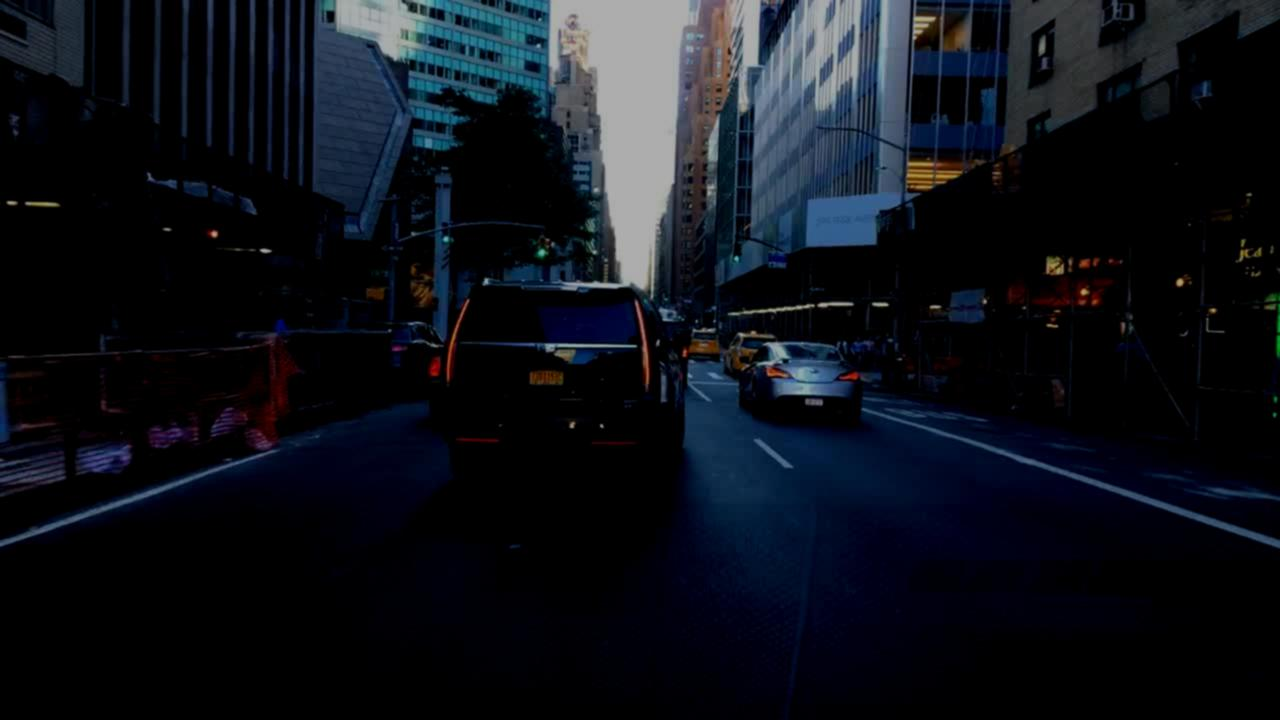cadillac: (529, 334, 562, 363)
